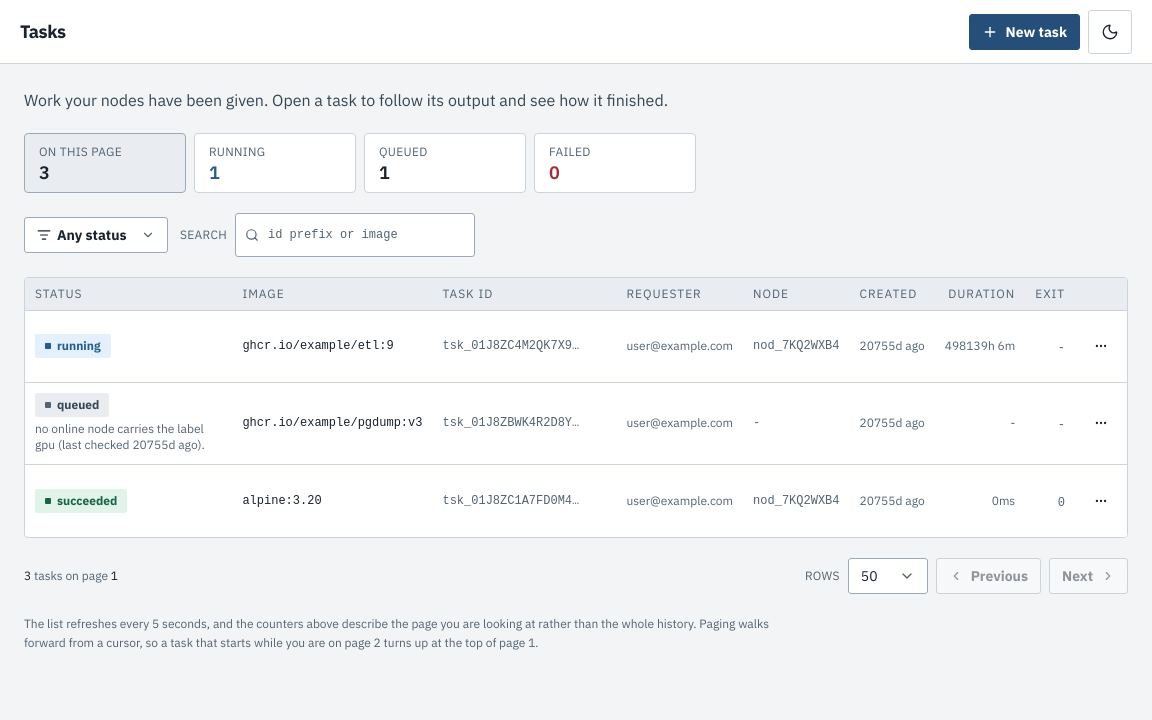
Test: TasksPage › offers a way out of a search that matched nothing
Type "nope" into the search field labelled "Search" at (355, 235), box [235,213,475,257]
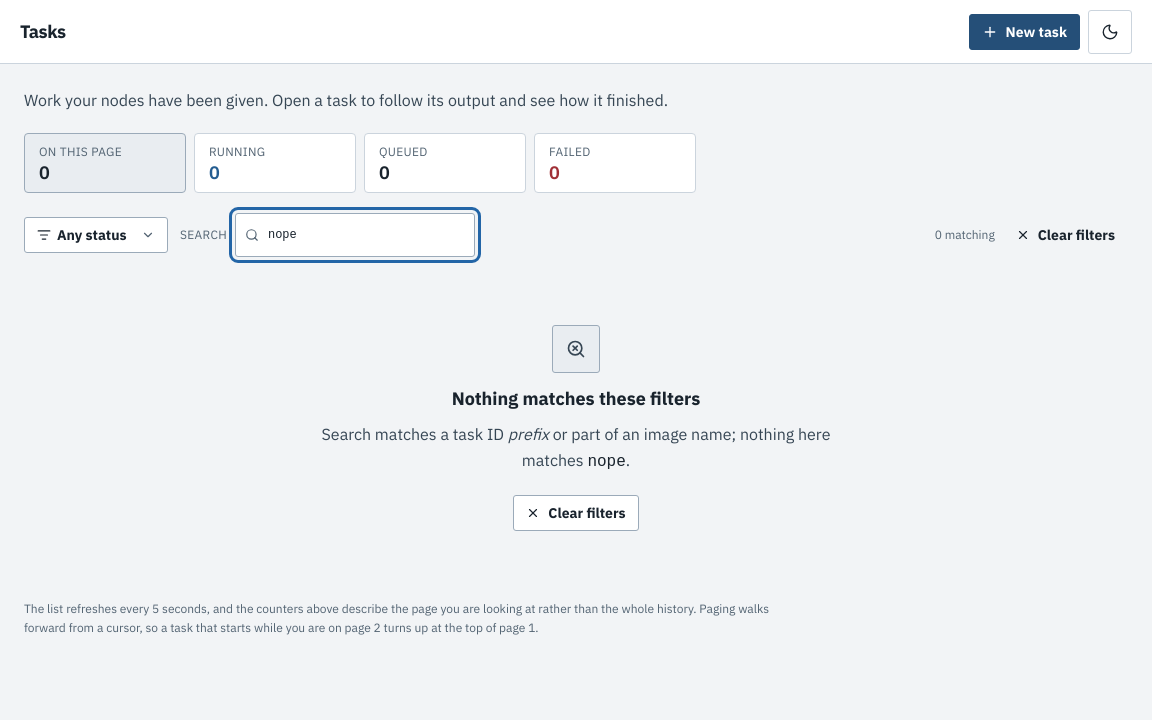
Expected: the text "Nothing matches these filters" is shown, [452,385,700,413]
Expected: the button "Clear filters" next to "matching" is shown, [1003,217,1128,253]
